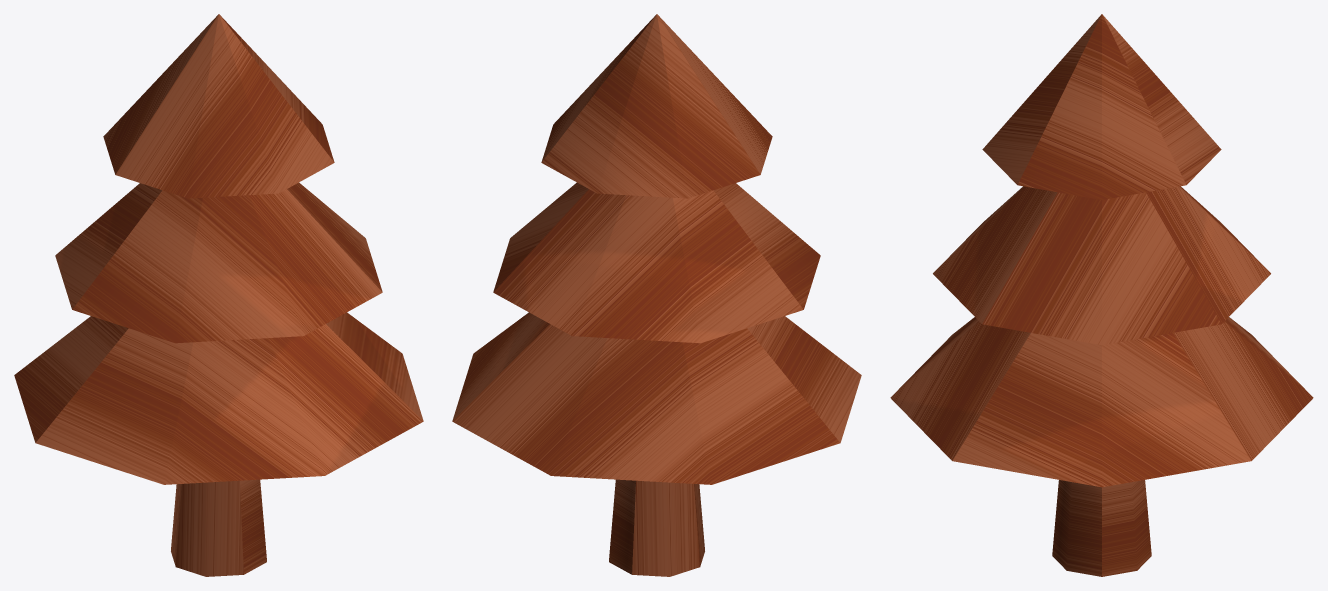
The model's file is polygen_a_stylized_low_poly_pine_34561a0e_processed.obj.
3 renders of one model, left to right at view 1: azimuth 30°, elevation 25°; view 2: azimuth 150°, elevation 25°; view 3: azimuth 270°, elevation 25°, orthographic.
Visible parts, largest first — view 1: polygen_a_stylized_low_poly_pine_34561a0e_processed; view 2: polygen_a_stylized_low_poly_pine_34561a0e_processed; view 3: polygen_a_stylized_low_poly_pine_34561a0e_processed.
Part boxes in pixels (x1=…): polygen_a_stylized_low_poly_pine_34561a0e_processed: x1=14, y1=14, x2=423, y2=576; polygen_a_stylized_low_poly_pine_34561a0e_processed: x1=452, y1=14, x2=861, y2=576; polygen_a_stylized_low_poly_pine_34561a0e_processed: x1=890, y1=14, x2=1313, y2=576.
Size of the model in its own units: 1.42 by 2 by 1.42.
